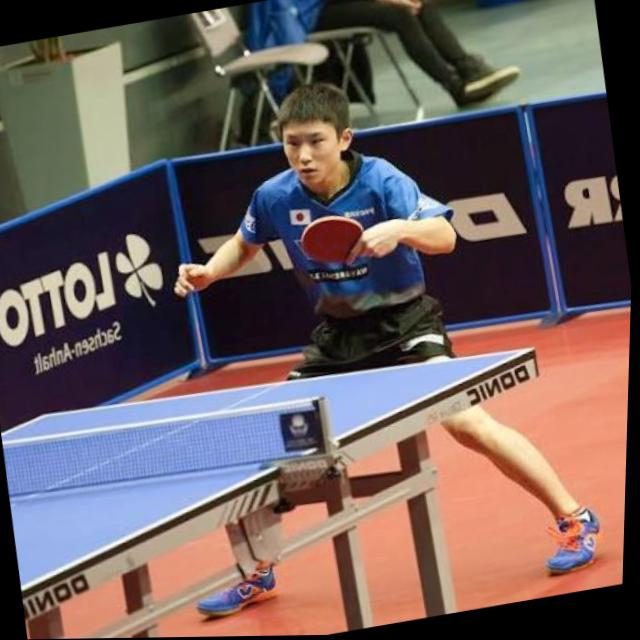TT Net: (3, 393, 335, 498)
TT Racket: (292, 207, 375, 271)
TT Table: (3, 347, 532, 590)
